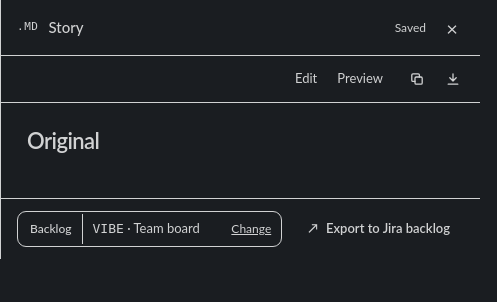
Scenario: Jira export in the document panel › should show the refusal and bring the button back when the action is refused
The image size is (497, 302).
Click the button "↗ Export to Jira backlog" at (379, 229), box [294,212,464,246]
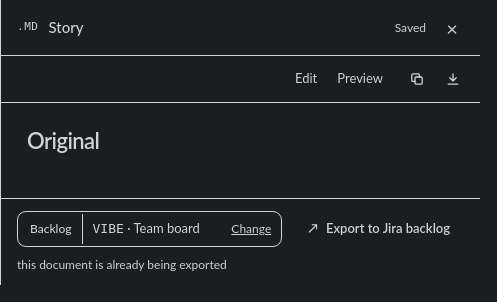
Check: the message "this document is already being exported" is shown, box [17,257,227,272]
